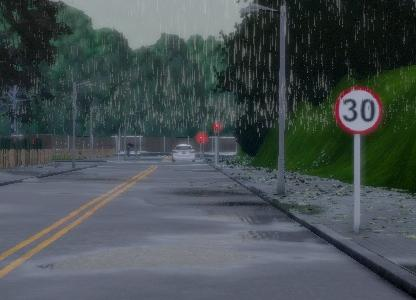Speed_30: (334, 85, 384, 138)
